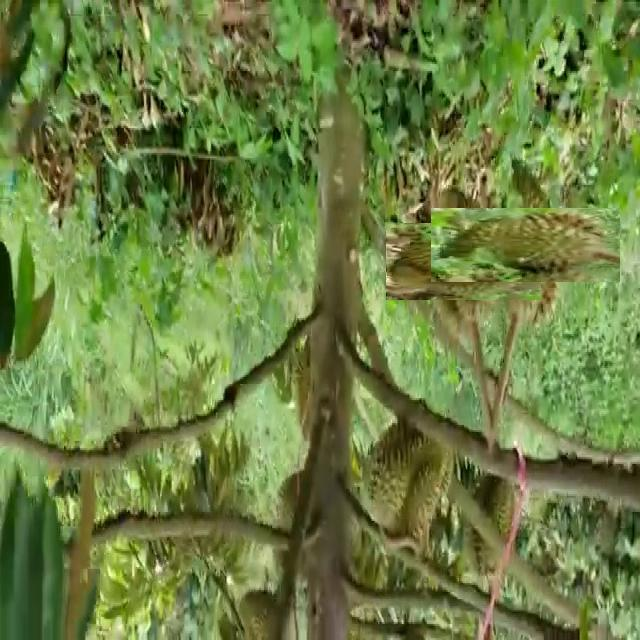durian: (459, 179, 592, 312), (404, 203, 522, 320), (357, 403, 453, 544), (457, 453, 521, 587)
